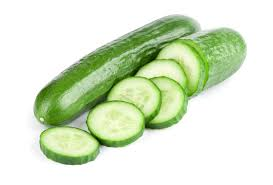cucumber: (30, 14, 246, 166)
